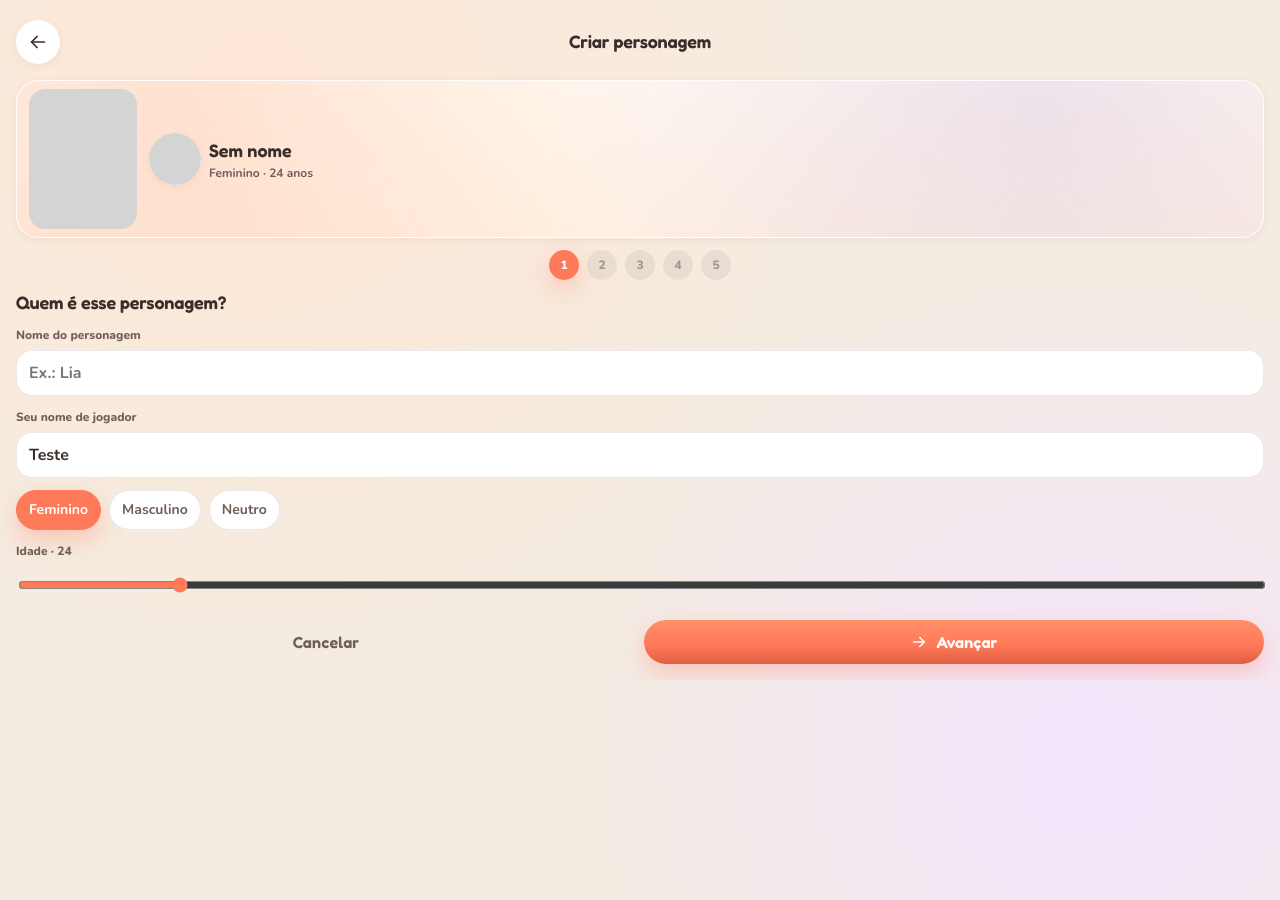
Test: CreatorScreen › blocks advancing without a name and explains why
This screenshot has width=1280, height=900.
Click the button "Avançar" at (954, 642), box [644,620,1264,664]
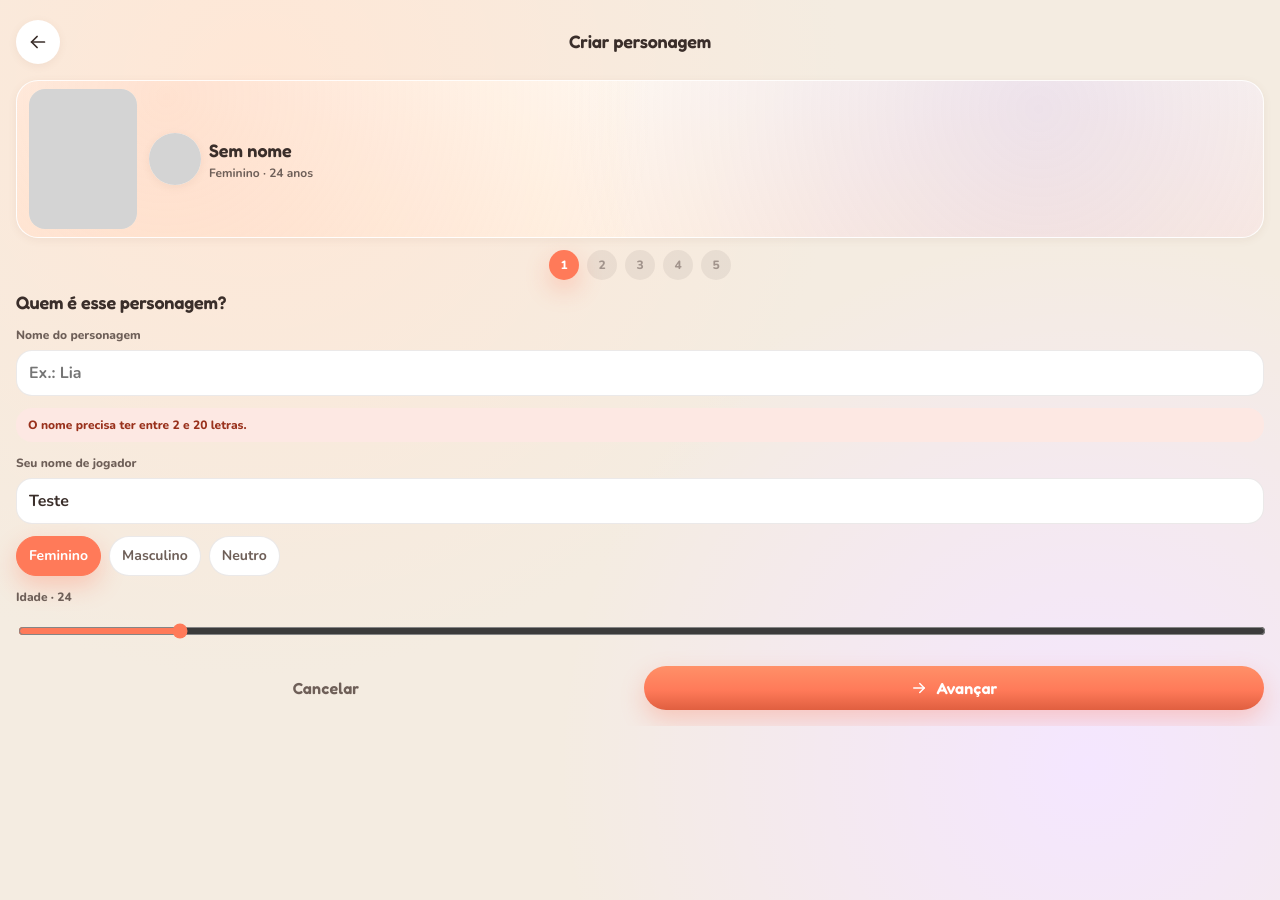
Expected: the message reads "O nome precisa ter entre 2 e 20 letras.", [28,417,247,433]
